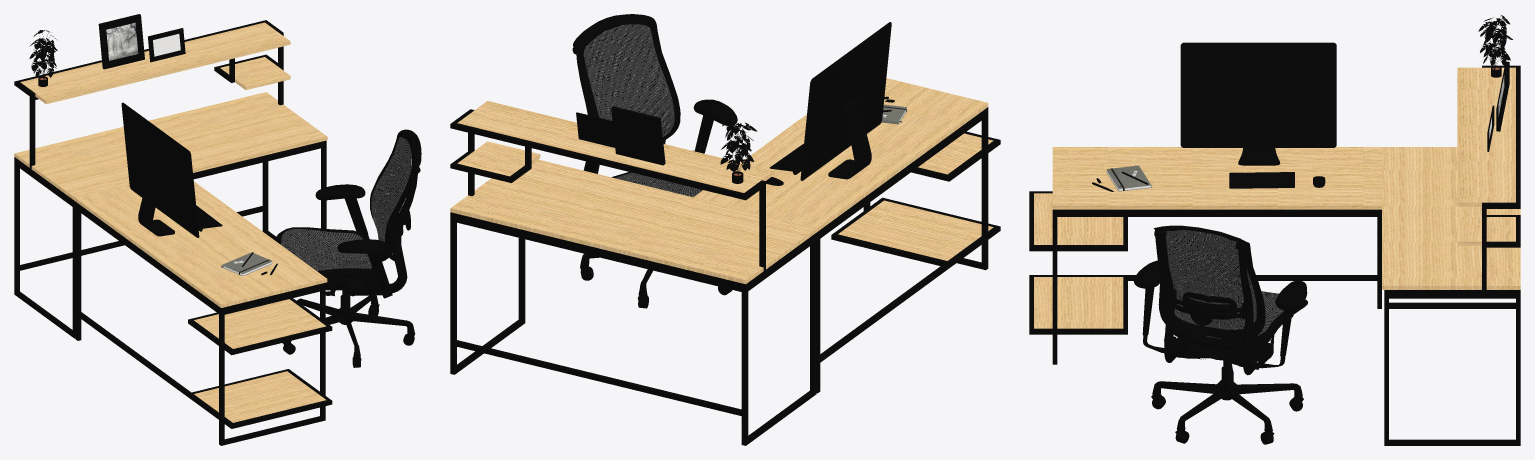
Rendered from escritorio.glb.
3 views of the same model, side by side, from view 1: azimuth 30°, elevation 25°; view 2: azimuth 150°, elevation 25°; view 3: azimuth 270°, elevation 25° (orthographic). The views are drawn at different scales.
Parts seen in each view (by area): view 1: Object_126, Object_101, Object_107, Object_124, Object_118, Object_115, Object_117, Object_2, Object_100, Object_79, Object_114, Object_3 (+1 smaller); view 2: Object_126, Object_101, Object_107, Object_124, Object_118, Object_117, Object_100, Object_99; view 3: Object_126, Object_101, Object_124, Object_118, Object_107, Object_117, Object_115, Object_116, Object_114, Object_99, Object_100, Object_79 (+1 smaller).
Boxes of the visible parts, x1,y1,x2,y2 form: Object_126: (14,22,327,422); Object_101: (14,14,392,445); Object_107: (46,55,277,274); Object_124: (281,137,411,271); Object_118: (33,32,421,345); Object_115: (317,167,420,312); Object_117: (275,210,410,417); Object_2: (106,22,138,60); Object_100: (148,28,348,297); Object_79: (222,252,271,273); Object_114: (41,59,378,296); Object_3: (153,34,180,56); Object_126: (450,78,993,284); Object_101: (450,99,1000,445); Object_107: (725,22,893,180); Object_124: (583,24,702,197); Object_118: (573,14,750,280); Object_117: (468,47,949,393); Object_100: (576,110,889,179); Object_99: (721,118,802,185); Object_126: (1034,67,1520,328); Object_101: (1029,15,1520,445); Object_124: (1165,230,1283,338); Object_118: (1153,17,1494,444); Object_107: (1092,42,1494,191); Object_117: (1099,179,1307,409); Object_115: (1154,229,1272,434); Object_116: (1168,289,1293,320); Object_114: (1172,337,1270,366); Object_99: (1239,15,1512,187); Object_100: (1125,53,1510,369); Object_79: (1106,165,1150,188).
Size of the model in its own units: 1498 by 1415 by 2090.
Materials: 100 (95 with a texture image).
